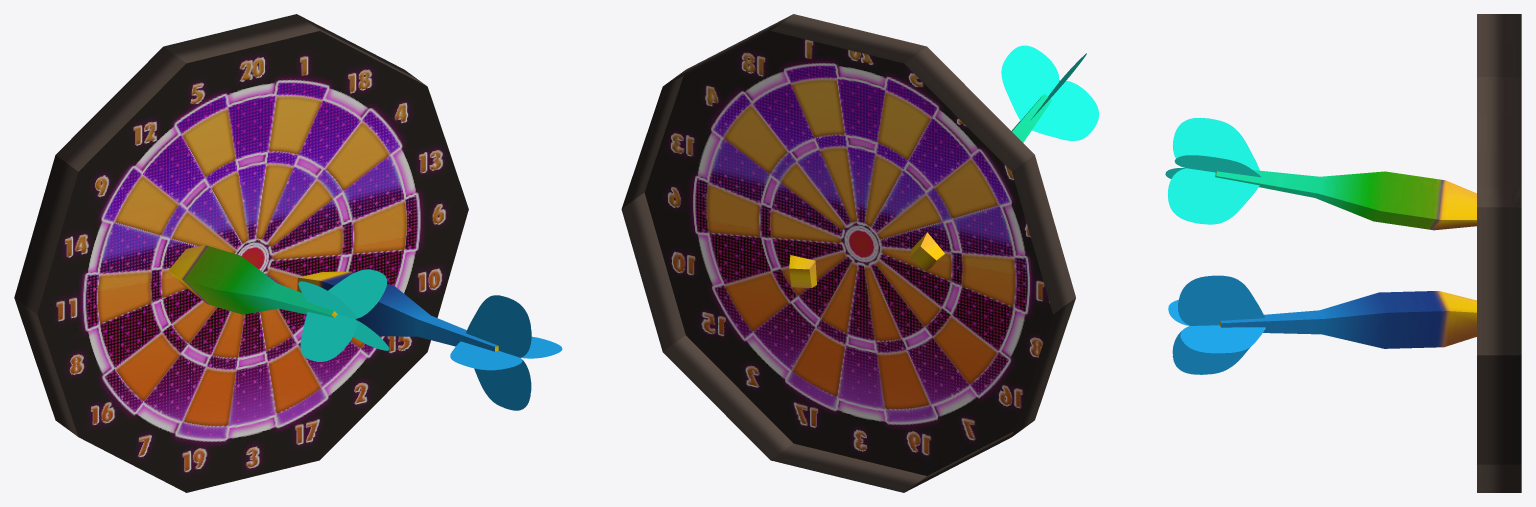
Rendered from gameMachine2.fbx.
3 views of the same model, side by side, from view 1: azimuth 30°, elevation 25°; view 2: azimuth 150°, elevation 25°; view 3: azimuth 270°, elevation 25° (orthographic). The views are drawn at different scales.
Parts seen in each view (by area): view 1: gameMachine2; view 2: gameMachine2; view 3: gameMachine2.
Boxes of the visible parts, left/top/right/bottom form: gameMachine2: left=14, top=14, right=562, bottom=492; gameMachine2: left=621, top=14, right=1098, bottom=492; gameMachine2: left=1165, top=14, right=1521, bottom=492.
Bounding box in the file's own units: 4.57 × 4.35 × 3.47.
